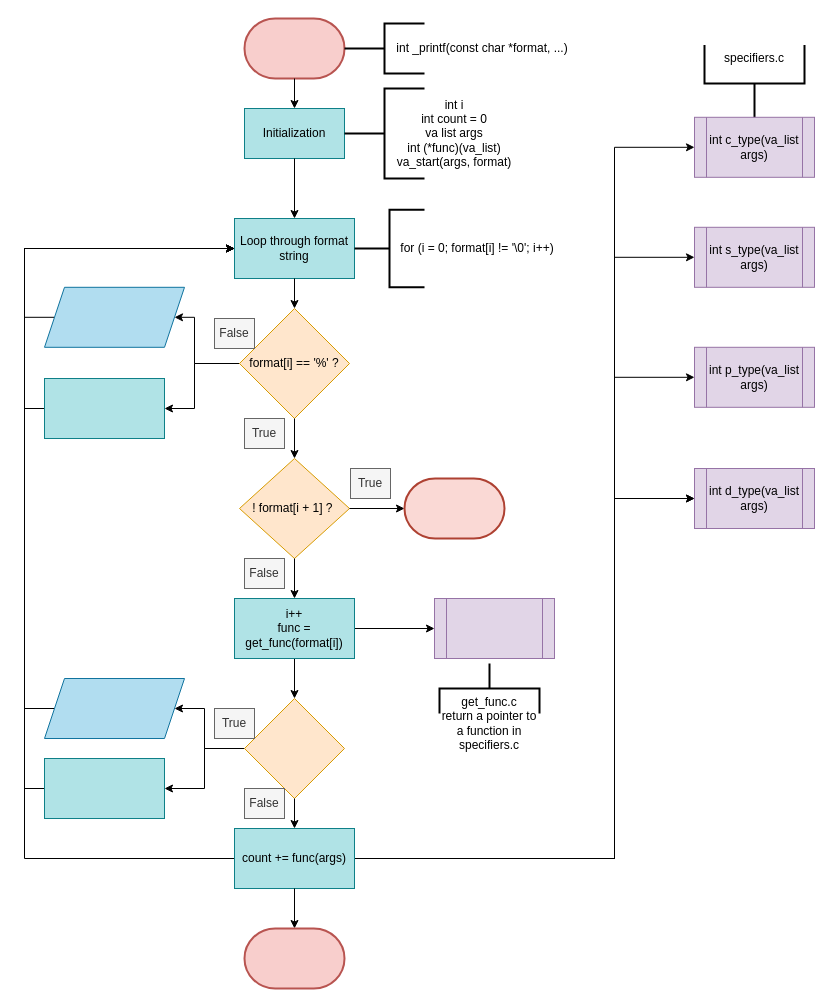
This 832x1006 diagram has some shape labels left out. Here are the shapes that lost their labels. From the top down, the centre of each, then its label:
point (294, 48): Start
point (114, 316): write(1, &format[i], 1)
point (104, 408): count ++
point (454, 508): va_end(args) return (-1)
point (494, 628): get_func(char c)
point (114, 708): write % write format[i]
point (294, 748): func == NULL ?
point (104, 788): count += 2
point (294, 958): va_end(args) return (count)
